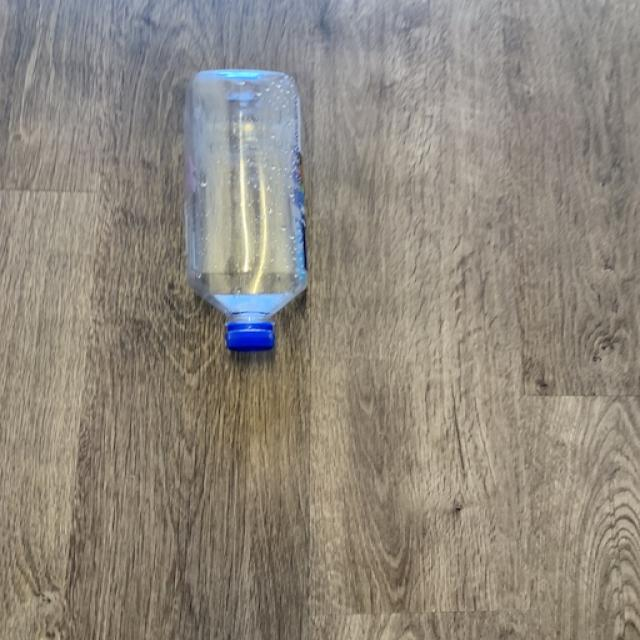Waste: (185, 69, 308, 352)
